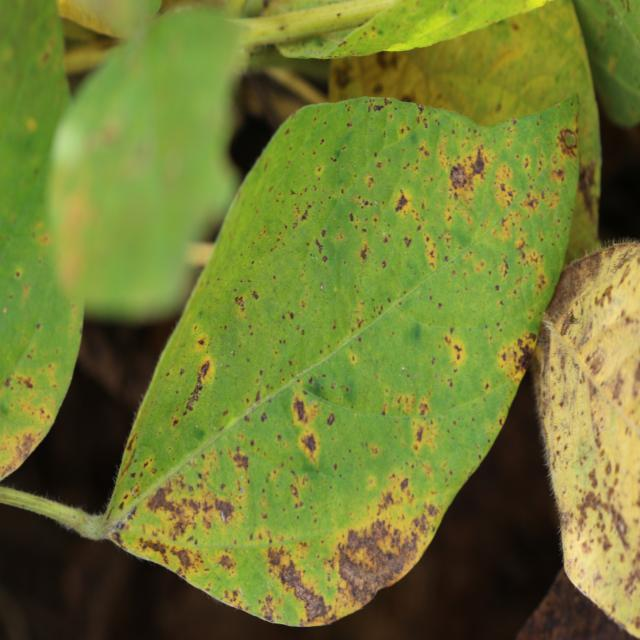Bacterial_Blight: (337, 514, 428, 606), (254, 544, 338, 630), (574, 487, 626, 549), (600, 351, 640, 418), (448, 143, 490, 195), (144, 483, 190, 527), (182, 358, 211, 415), (577, 160, 598, 208), (511, 337, 536, 373), (212, 496, 236, 525), (623, 566, 640, 599), (300, 431, 318, 459), (587, 350, 606, 376), (292, 396, 309, 423), (215, 552, 236, 573), (558, 128, 577, 151), (231, 449, 249, 471), (14, 373, 35, 390), (394, 189, 409, 212), (378, 490, 395, 510), (598, 285, 615, 305), (199, 360, 210, 378), (414, 425, 424, 443), (234, 295, 245, 309), (359, 245, 368, 262), (453, 344, 462, 360), (400, 478, 410, 492), (315, 239, 323, 254)
Soybean: (82, 96, 579, 625)
